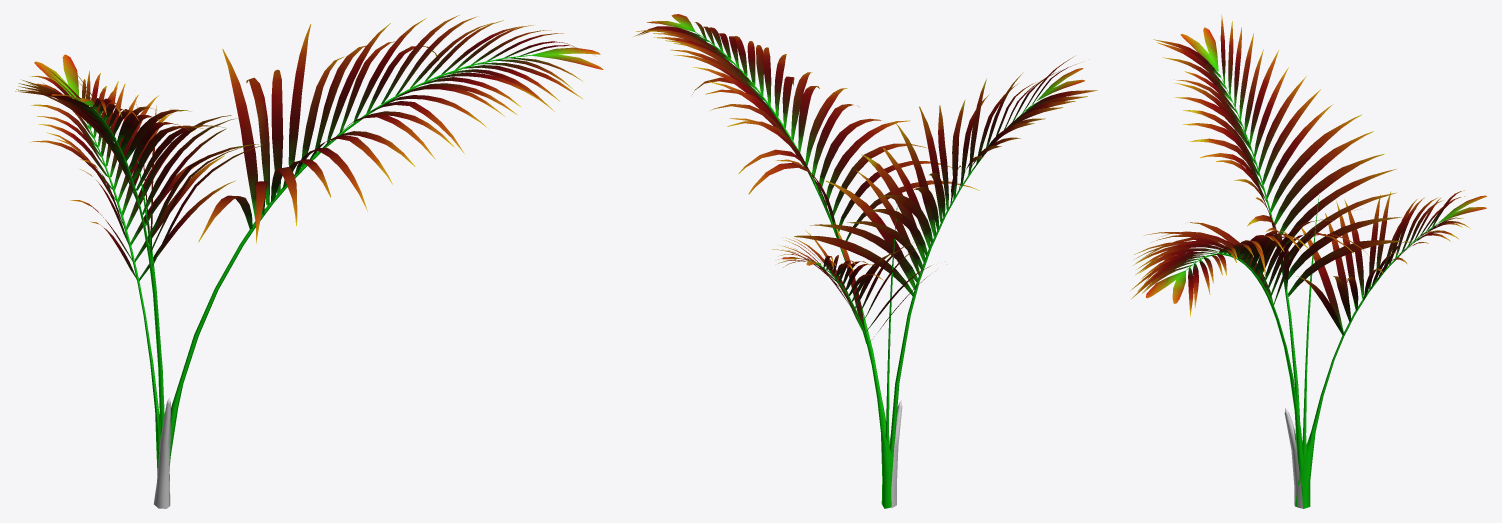
File: Alexandra Palm_LOD3_Var1_ukgkcilia.fbx
3 views of the same model, side by side, from view 1: azimuth 30°, elevation 25°; view 2: azimuth 150°, elevation 25°; view 3: azimuth 270°, elevation 25° (orthographic). The views are drawn at different scales.
Visible parts, largest first — view 1: _qrvz_Var1_LOD3; view 2: _qrvz_Var1_LOD3; view 3: _qrvz_Var1_LOD3.
Boxes of the visible parts, x1=… form: _qrvz_Var1_LOD3: x1=15, y1=15, x2=603, y2=508; _qrvz_Var1_LOD3: x1=634, y1=14, x2=1097, y2=508; _qrvz_Var1_LOD3: x1=1129, y1=14, x2=1486, y2=508.
Size of the model in its own units: 75.61 by 63.75 by 50.24.
